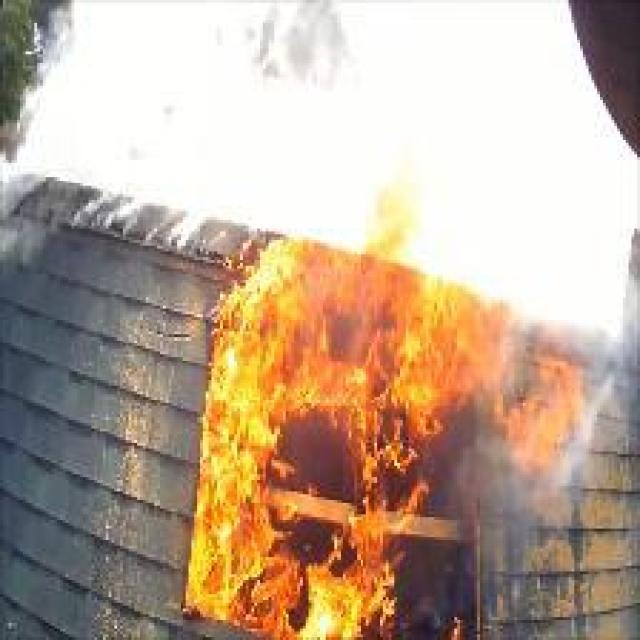fire: (160, 170, 578, 630)
